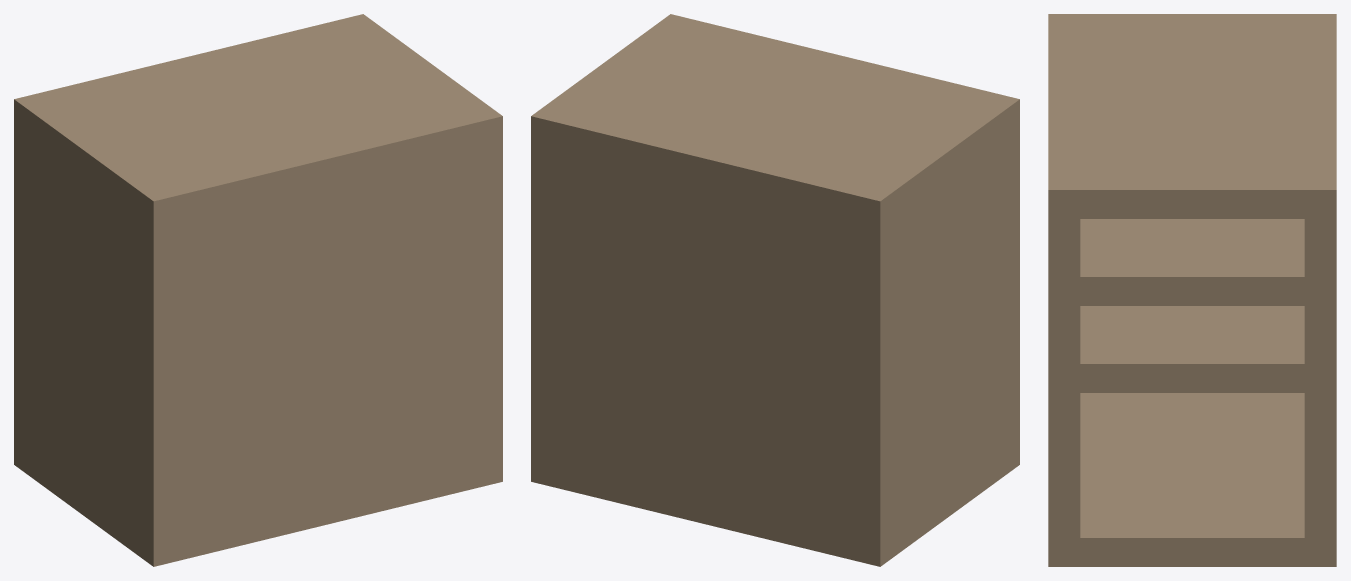
Rendered from Cabinet00-frame.gltf.
3 renders of one model, left to right at view 1: azimuth 30°, elevation 25°; view 2: azimuth 150°, elevation 25°; view 3: azimuth 270°, elevation 25°, orthographic. The views are drawn at different scales.
Size of the model in its own units: 13 by 13 by 9.
